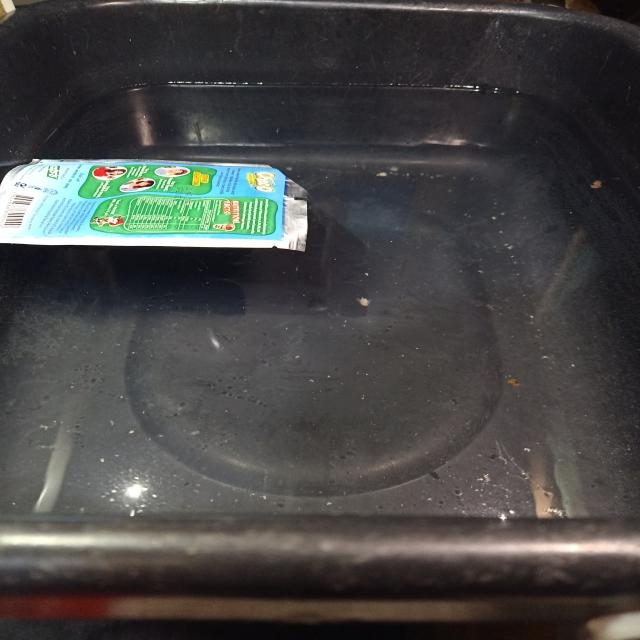Plastic Pouch: (0, 159, 307, 251)
